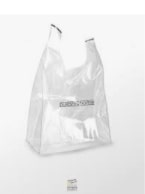kantong: (24, 23, 113, 156)
